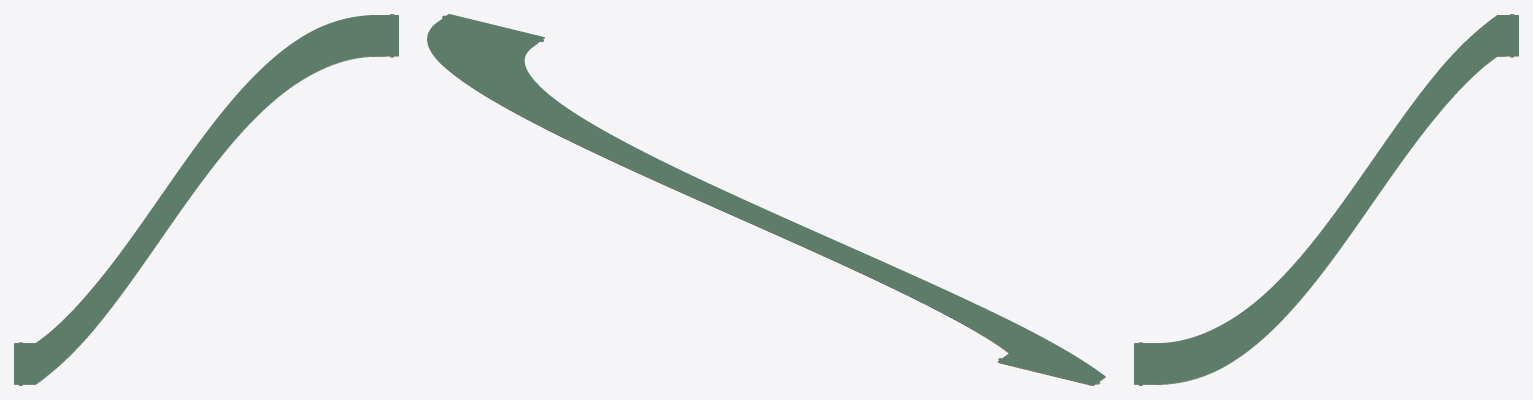
File: YAKB-shaped-FPC-B1.glb
3 views of the same model, side by side, from view 1: azimuth 90°, elevation 25°; view 2: azimuth 150°, elevation 25°; view 3: azimuth 270°, elevation 25° (orthographic). The views are drawn at different scales.
Parts seen in each view (by area): view 1: =>[0:1:1:4], =>[0:1:1:6]; view 2: =>[0:1:1:4], =>[0:1:1:6]; view 3: =>[0:1:1:4], =>[0:1:1:6].
Boxes of the visible parts, x1,y1,x2,y2 form: =>[0:1:1:4]: (14,14,398,385); =>[0:1:1:6]: (14,15,398,385); =>[0:1:1:4]: (427,14,1105,385); =>[0:1:1:6]: (427,15,1105,385); =>[0:1:1:4]: (1134,14,1518,385); =>[0:1:1:6]: (1134,15,1518,385).
Size of the model in its own units: 0.2251 by 0.00021 by 0.0986.
